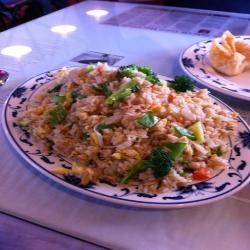rice: (30, 65, 238, 206)
